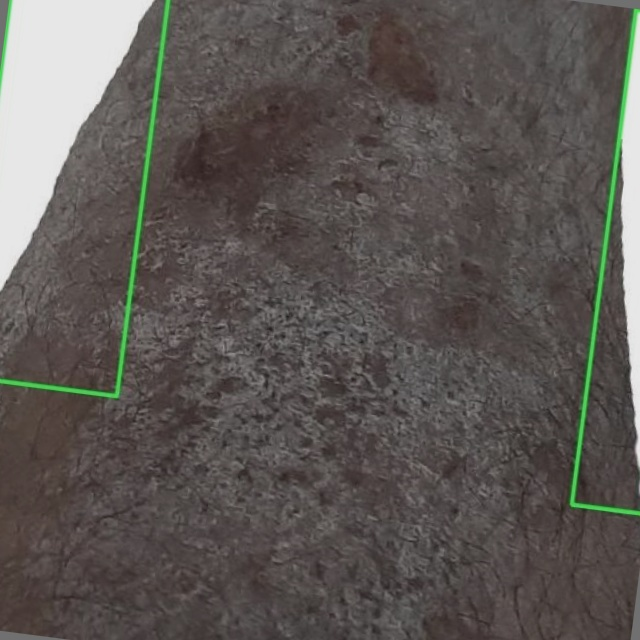Contact Dermatitis: (0, 0, 168, 395)
